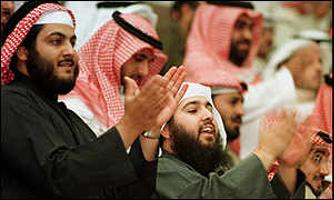person: (2, 1, 190, 200)
